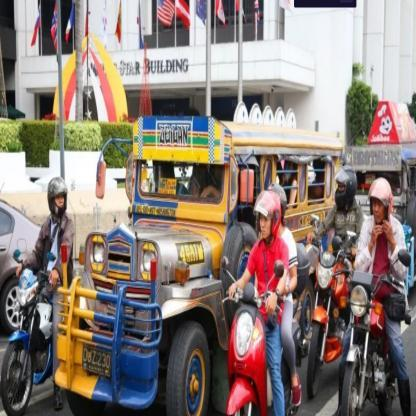helmet: (253, 190, 282, 240), (367, 176, 393, 224), (334, 165, 357, 208), (47, 176, 68, 218)
